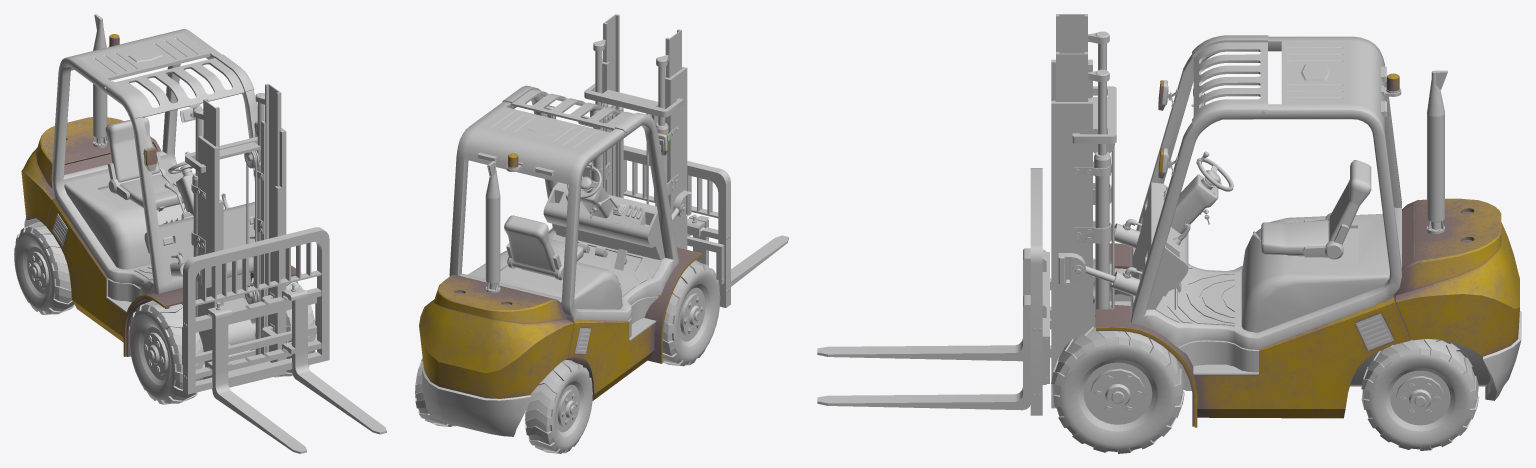
Rendered from loader.fbx.
The picture shows the model from 3 angles, left to right: view 1: azimuth 30°, elevation 25°; view 2: azimuth 150°, elevation 25°; view 3: azimuth 270°, elevation 25°; orthographic projection. The views are drawn at different scales.
Visible parts, largest first — view 1: loader, loader_fork, loader_lifter_holder_short, wheels_front_R, wheels_back, loader_lifter_short, wheels_front_L; view 2: loader, loader_lifter_holder_short, loader_fork, wheels_back, wheels_front_R, loader_lifter_short, wheel; view 3: loader, loader_lifter_holder_short, wheels_front_L, loader_fork, wheels_back, loader_lifter_short.
Boxes of the visible parts, bbox=[...] form: loader: bbox=[21, 14, 301, 356]; loader_fork: bbox=[182, 227, 386, 453]; loader_lifter_holder_short: bbox=[185, 120, 286, 387]; wheels_front_R: bbox=[129, 300, 204, 404]; wheels_back: bbox=[14, 222, 74, 315]; loader_lifter_short: bbox=[193, 83, 281, 360]; wheels_front_L: bbox=[250, 277, 316, 377]; loader: bbox=[419, 85, 702, 436]; loader_lifter_holder_short: bbox=[584, 59, 687, 249]; loader_fork: bbox=[582, 145, 788, 307]; wheels_back: bbox=[415, 358, 592, 453]; wheels_front_R: bbox=[662, 260, 720, 366]; loader_lifter_short: bbox=[593, 14, 681, 196]; wheel: bbox=[567, 162, 601, 198]; loader: bbox=[1058, 35, 1521, 427]; loader_lifter_holder_short: bbox=[1051, 59, 1130, 408]; wheels_front_L: bbox=[1051, 326, 1184, 453]; loader_fork: bbox=[817, 168, 1051, 415]; wheels_back: bbox=[1361, 339, 1479, 450]; loader_lifter_short: bbox=[1056, 14, 1109, 155].
Bounding box in the file's own units: 146 × 292 × 488.
